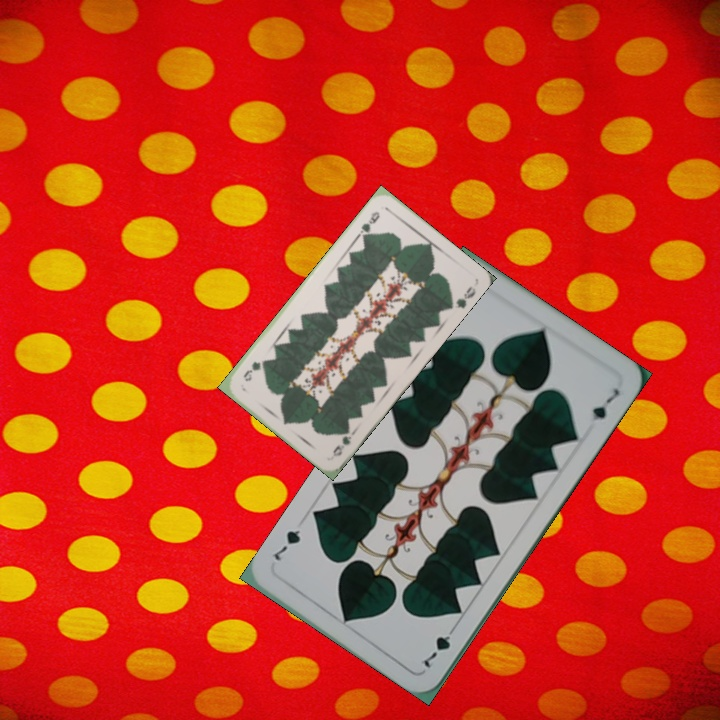G7: (419, 620, 459, 671)
G9: (354, 207, 383, 241), (329, 423, 354, 459)
